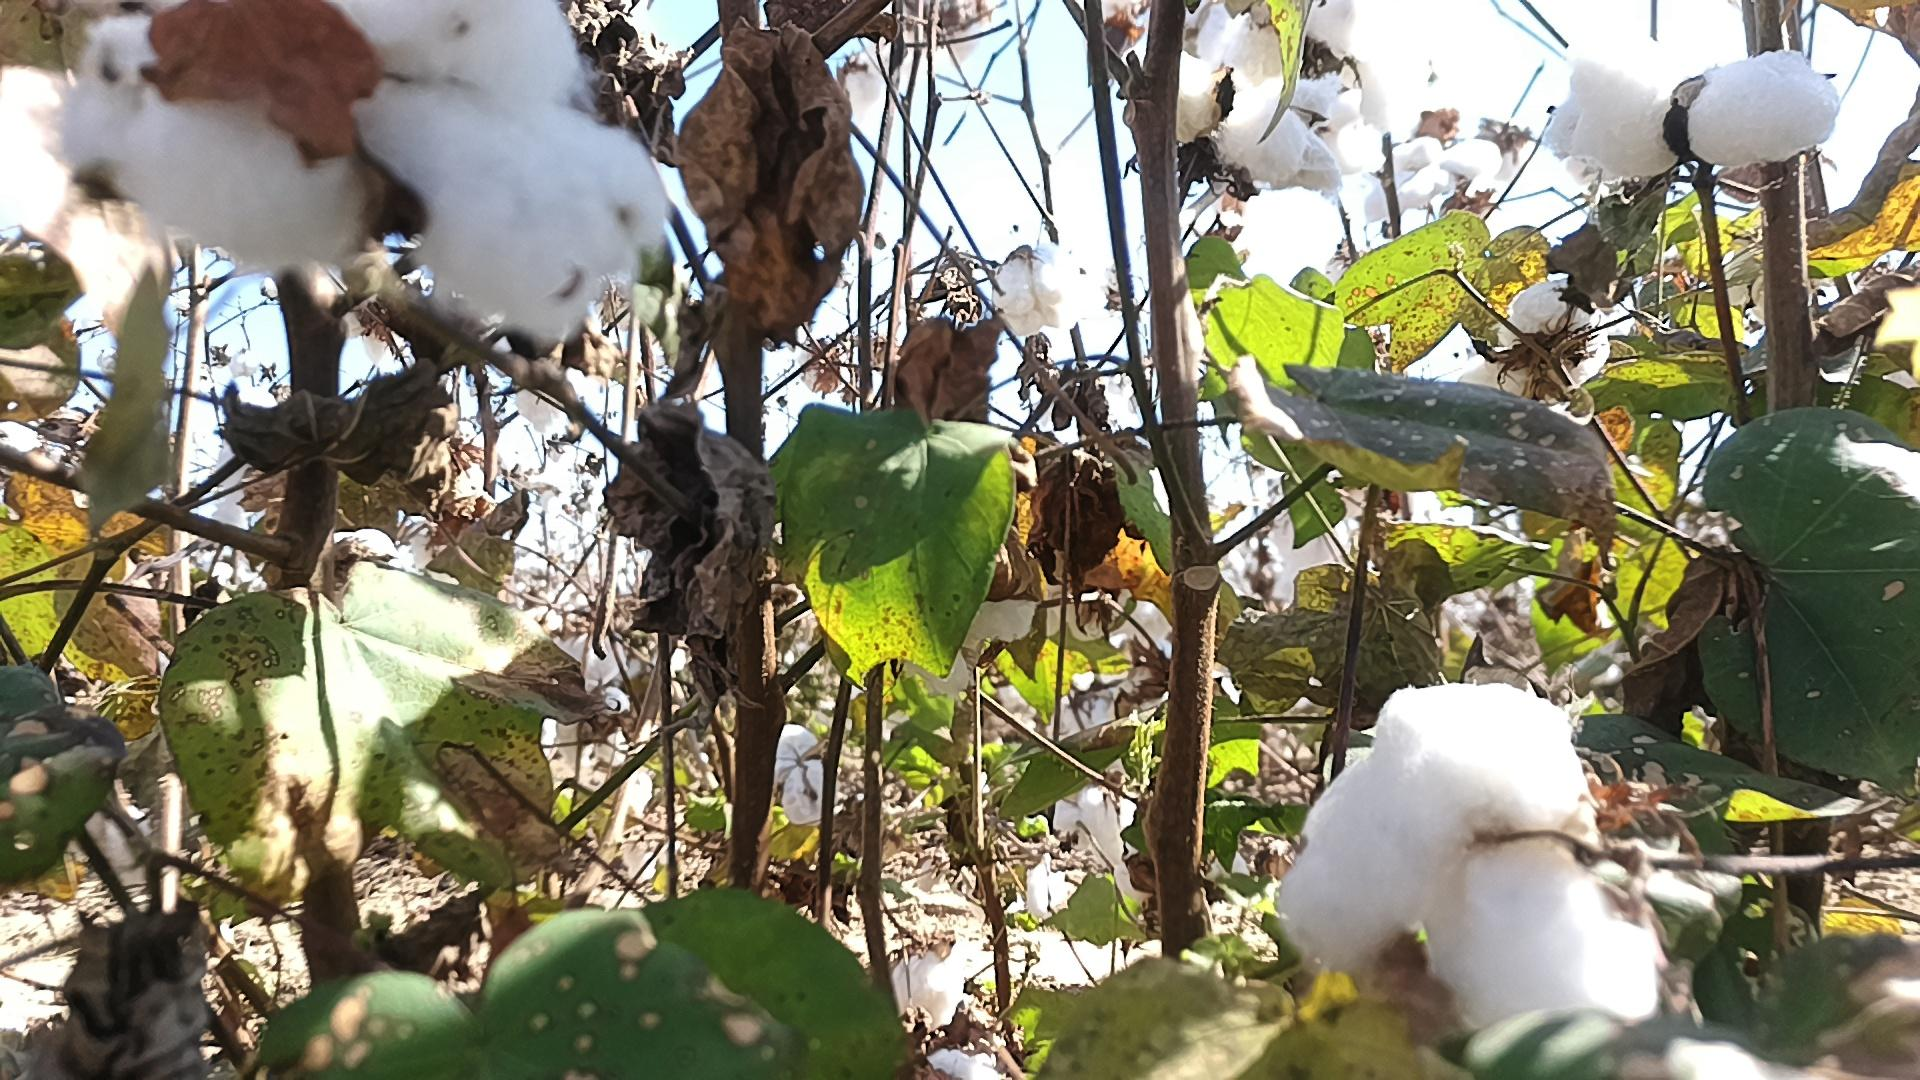cotton_ready: (30, 0, 670, 335), (1278, 680, 1655, 1031), (1545, 46, 1836, 189), (1172, 4, 1341, 203), (1457, 286, 1606, 409), (918, 553, 1046, 695), (1298, 0, 1395, 128), (1055, 783, 1146, 914), (1364, 136, 1501, 222), (1001, 243, 1092, 339), (775, 724, 837, 828)
